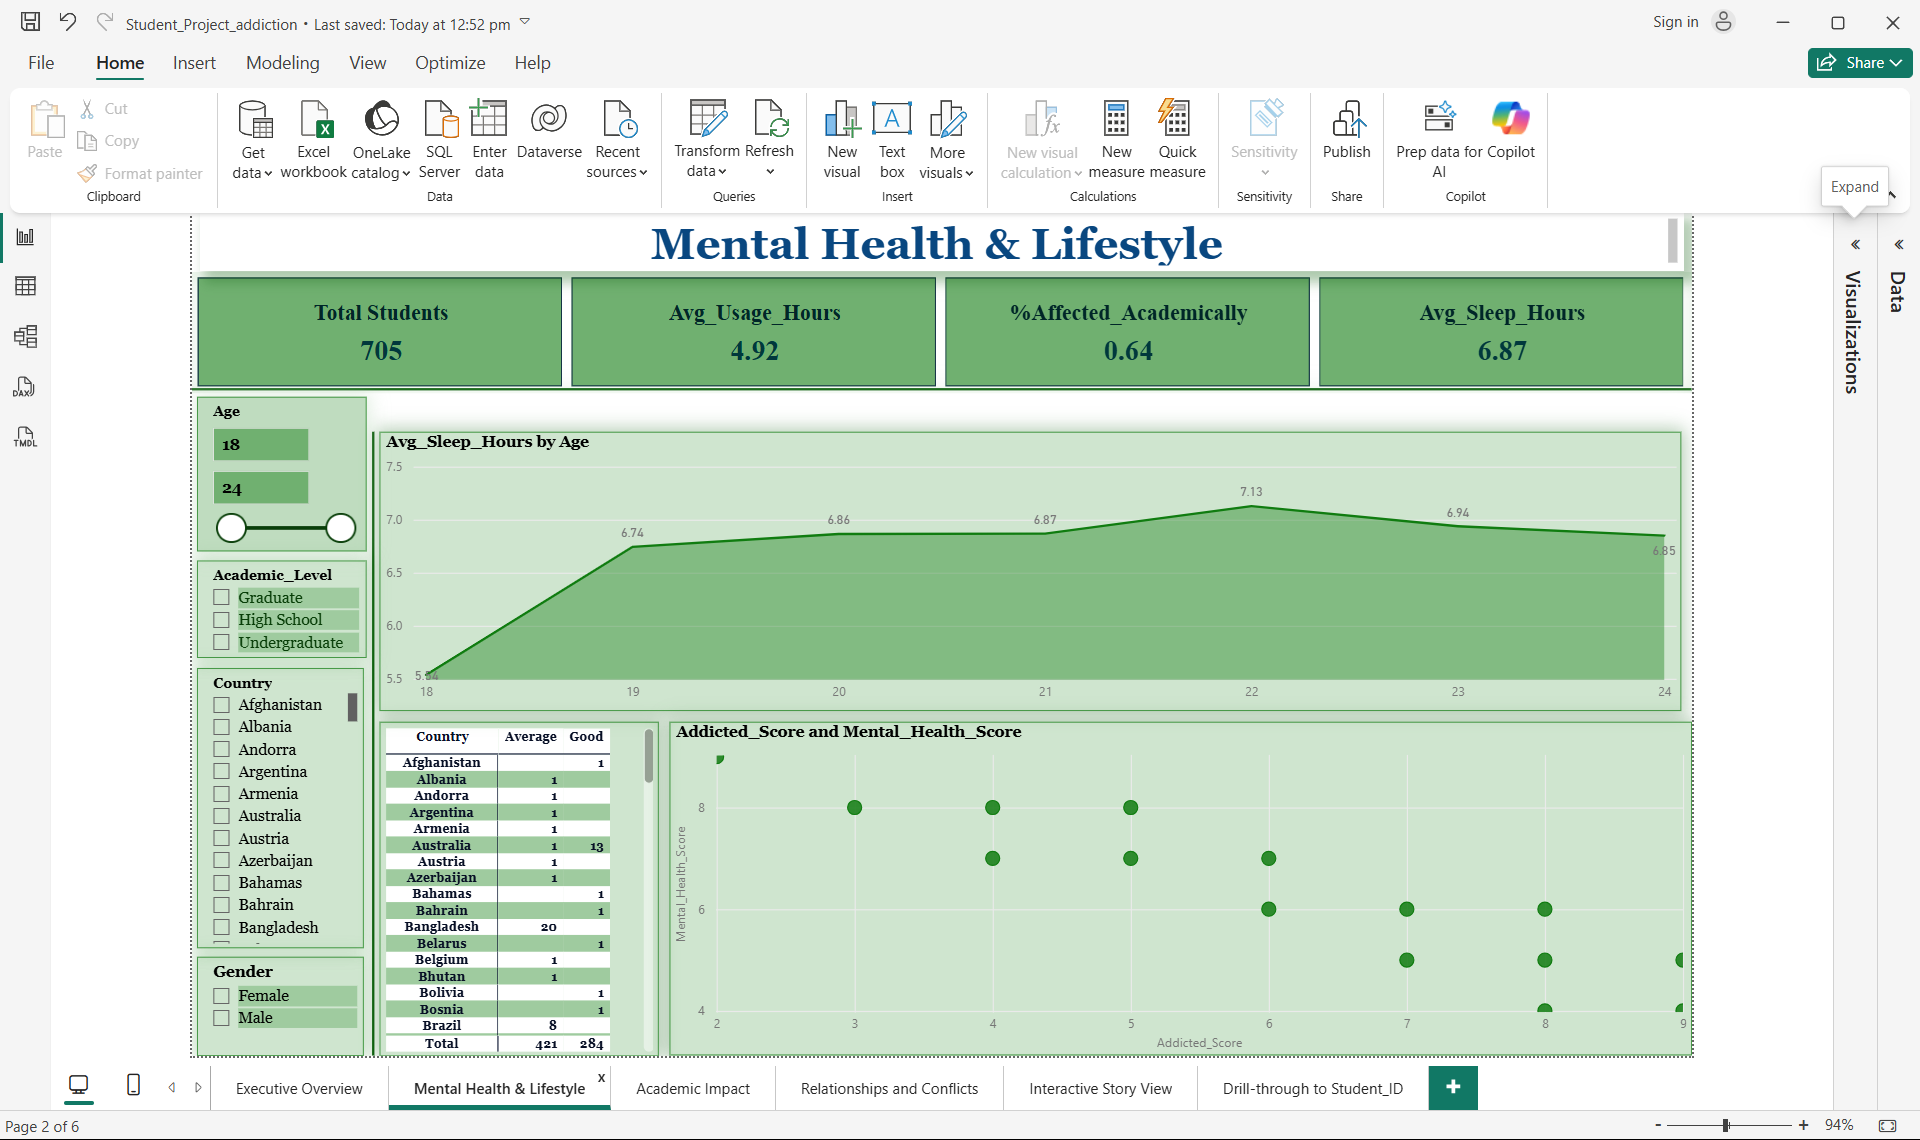

This screenshot's page, from the dashboard's own definition file:
{"tool":"powerbi","page":{"name":"Mental Health & Lifestyle","canvas":[1280,720],"ordinal":1},"visuals":[{"type":"pivotTable","fields":{"Rows":["Student Details.Country"],"Columns":["Student Details.Health Band"],"Values":["CountNonNull(Student Details.Student_ID)"]},"box":[160.5,434,238.5,285.9],"z":0},{"type":"lineChart","fields":{"Y":["Student Details.Avg_Sleep_Hours"],"Category":["Student Details.Age"]},"box":[160.3,186.3,1111.1,238.3],"z":1000},{"type":"scatterChart","fields":{"X":["Student Details.Addicted_Score"],"Y":["Student Details.Mental_Health_Score"]},"box":[408,434,872.5,284.8],"z":2000},{"type":"shape","box":[148.3,186.7,12.8,532.4],"z":3000},{"type":"shape","box":[0,144,1280.4,12.8],"z":4000},{"type":"slicer","fields":{"Values":["Student Details.Gender"]},"box":[4.5,635.3,142.3,84.7],"z":5000},{"type":"slicer","fields":{"Values":["Student Details.Country"]},"box":[4.5,388.4,142.3,239.4],"z":6000},{"type":"slicer","fields":{"Values":["Student Details.Academic_Level"]},"box":[4.5,297,144.5,83.6],"z":7000},{"type":"slicer","fields":{"Values":["Student Details.Age"]},"box":[4.5,157,144.5,132.1],"z":8000},{"type":"cardVisual","fields":{"Data":["Student Details.Total Students","Student Details.Avg_Usage_Hours","Student Details.%Affected_Academically","Student Details.Avg_Sleep_Hours"]},"box":[0,50,1280.2,103.5],"z":9000},{"type":"textbox","box":[6.8,0,1266.9,49.7],"z":10000}]}

Visuals, with their boxes on the page's 1280x720 design canvas (x1, y1, x2, y2). These are canvas units, not pixel positions in the 1920x1140 screenshot, which may show the page scaled, cropped or inside an application window:
pivotTable - Student Details.Country x Student Details.Health Band: 160, 434, 399, 720
lineChart - Student Details.Avg_Sleep_Hours x Student Details.Age: 160, 186, 1271, 425
scatterChart - Student Details.Addicted_Score x Student Details.Mental_Health_Score: 408, 434, 1280, 719
shape: 148, 187, 161, 719
shape: 0, 144, 1280, 157
slicer - Student Details.Gender: 4, 635, 147, 720
slicer - Student Details.Country: 4, 388, 147, 628
slicer - Student Details.Academic_Level: 4, 297, 149, 381
slicer - Student Details.Age: 4, 157, 149, 289
cardVisual - Student Details.Total Students x Student Details.Avg_Usage_Hours: 0, 50, 1280, 154
textbox: 7, 0, 1274, 50
